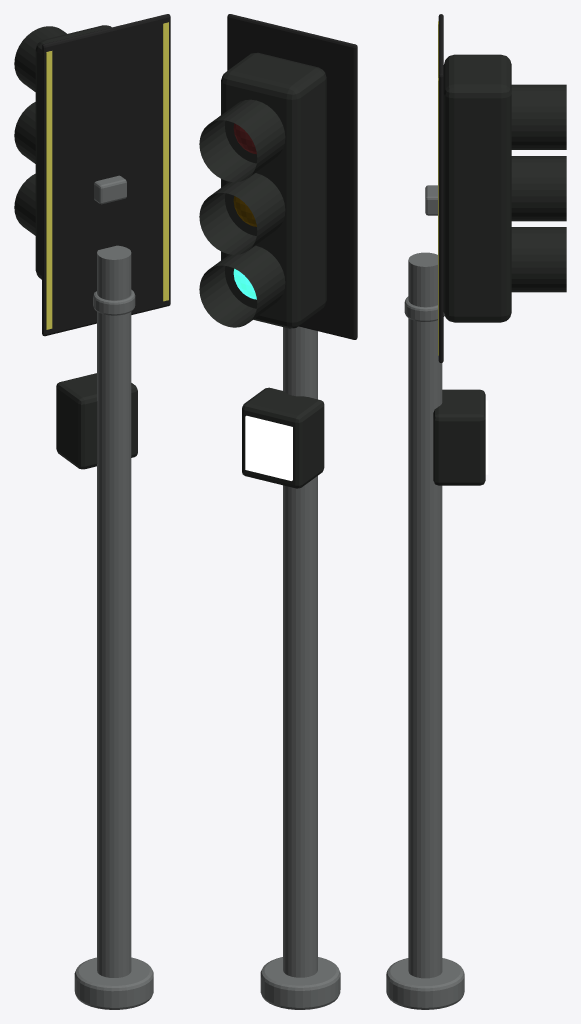
Rendered from traffic_light_green.glb.
The picture shows the model from 3 angles, left to right: view 1: azimuth 30°, elevation 25°; view 2: azimuth 150°, elevation 25°; view 3: azimuth 270°, elevation 25°; orthographic projection. The views are drawn at different scales.
Visible parts, largest first — view 1: traffic_light_green; view 2: traffic_light_green; view 3: traffic_light_green.
Boxes of the visible parts, left/top/right/bottom form: traffic_light_green: left=14, top=14, right=170, bottom=1009; traffic_light_green: left=199, top=14, right=357, bottom=1009; traffic_light_green: left=386, top=14, right=566, bottom=1009.
Bounding box in the file's own units: 0.56 × 4.01 × 0.69.
